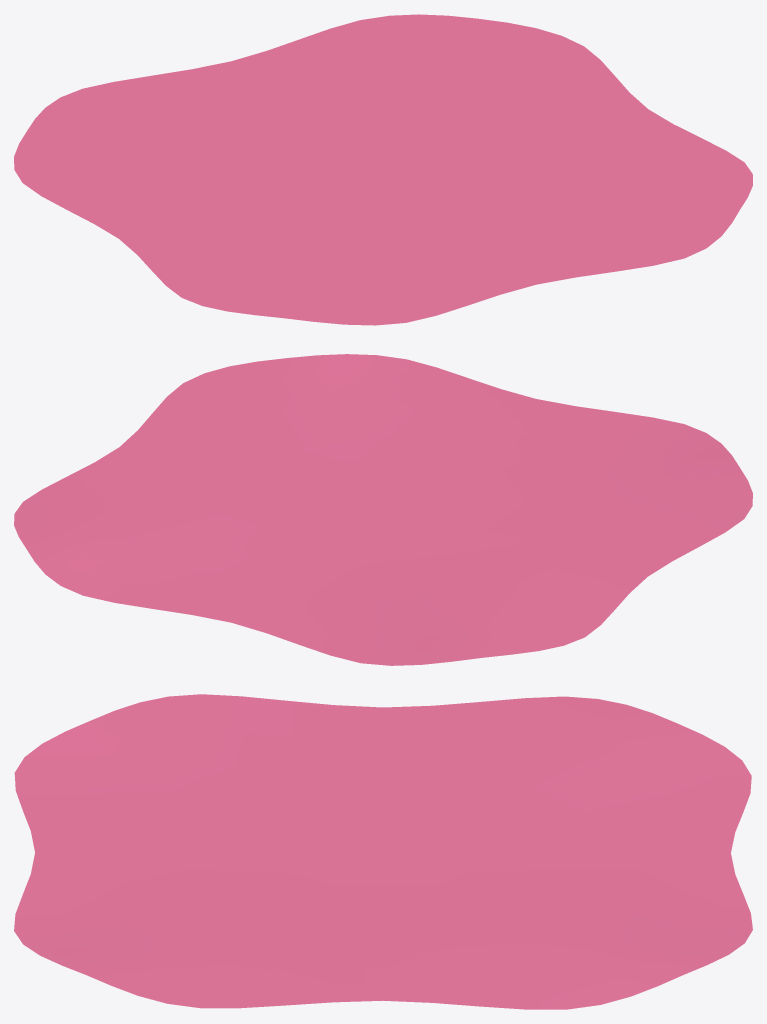
File: Water.fbx
The picture shows the model from 3 angles, top to bottom: view 1: azimuth 30°, elevation 25°; view 2: azimuth 150°, elevation 25°; view 3: azimuth 270°, elevation 25°; orthographic projection. The views are drawn at different scales.
Visible parts, largest first — view 1: Combined_Mesh__root__scene__1; view 2: Combined_Mesh__root__scene__1; view 3: Combined_Mesh__root__scene__1.
Boxes of the visible parts, box(x1,y1,x2,y2) form: Combined_Mesh__root__scene__1: box(14, 14, 752, 325); Combined_Mesh__root__scene__1: box(14, 354, 752, 665); Combined_Mesh__root__scene__1: box(14, 694, 752, 1009).
Size of the model in its own units: 2368 by 31.7 by 2366.
